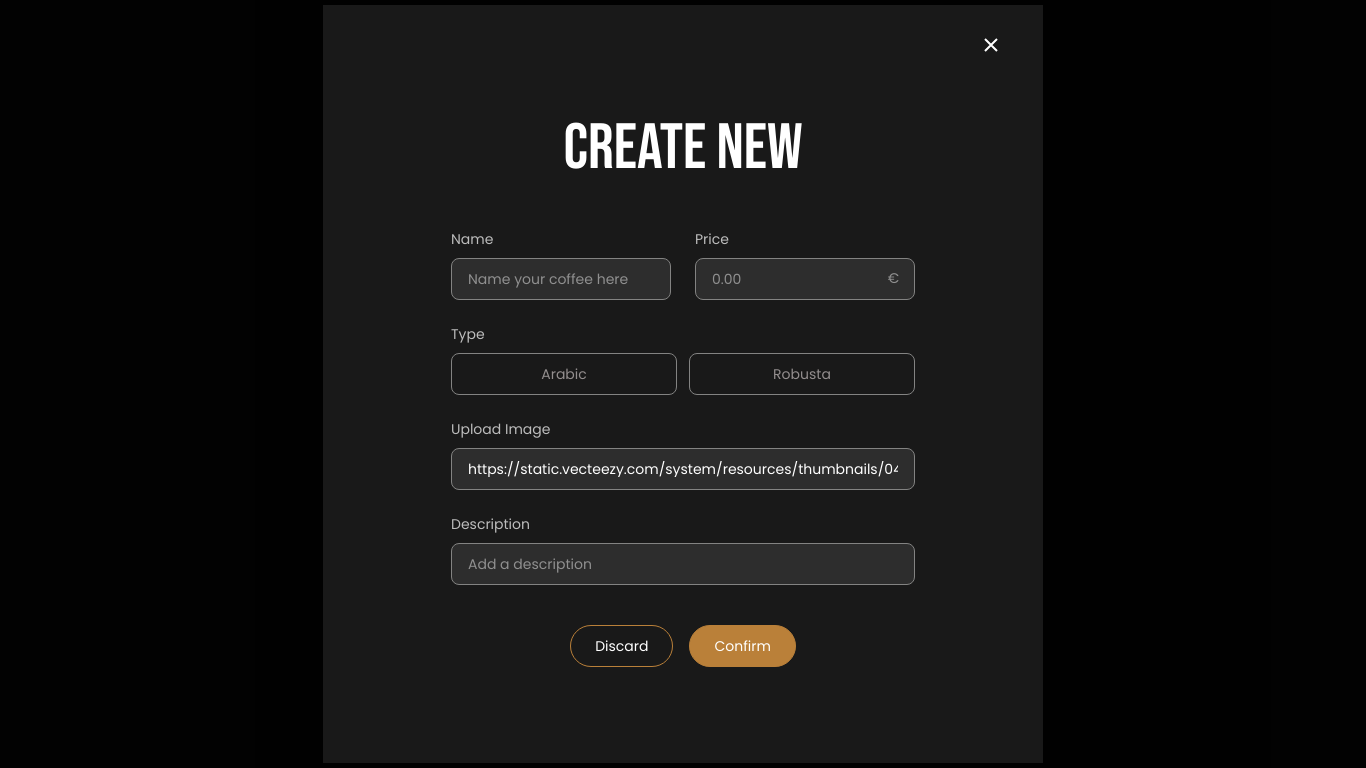
Test: Create Coffee Modal Integration › Server Errors › should show toast when server returns duplicate name error
The width and height of the screenshot is (1366, 768).
# Fill valid form
In the field labelled "Name": (561, 279) x1=451 y1=258 x2=671 y2=300, type "Existing Coffee"
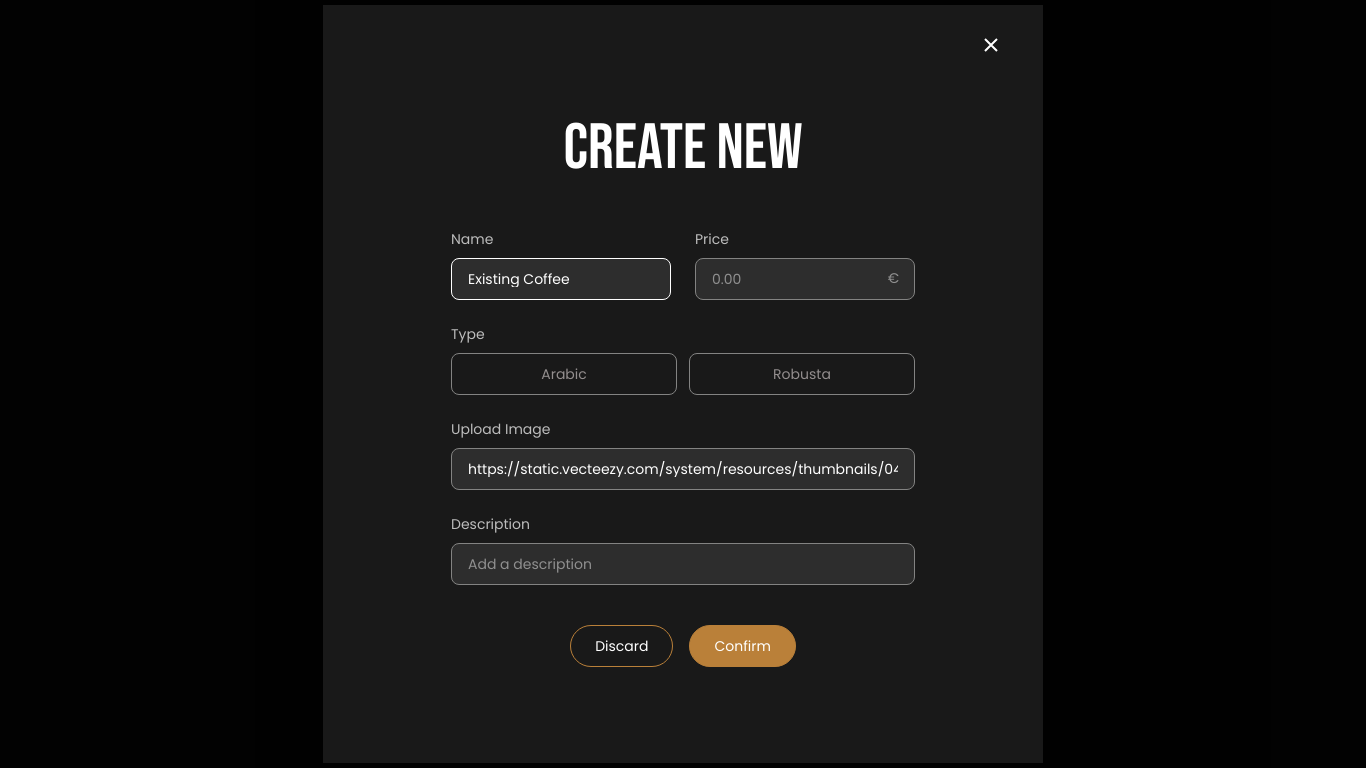
In the field labelled "Price": (805, 279) x1=695 y1=258 x2=915 y2=300, type "15.99"
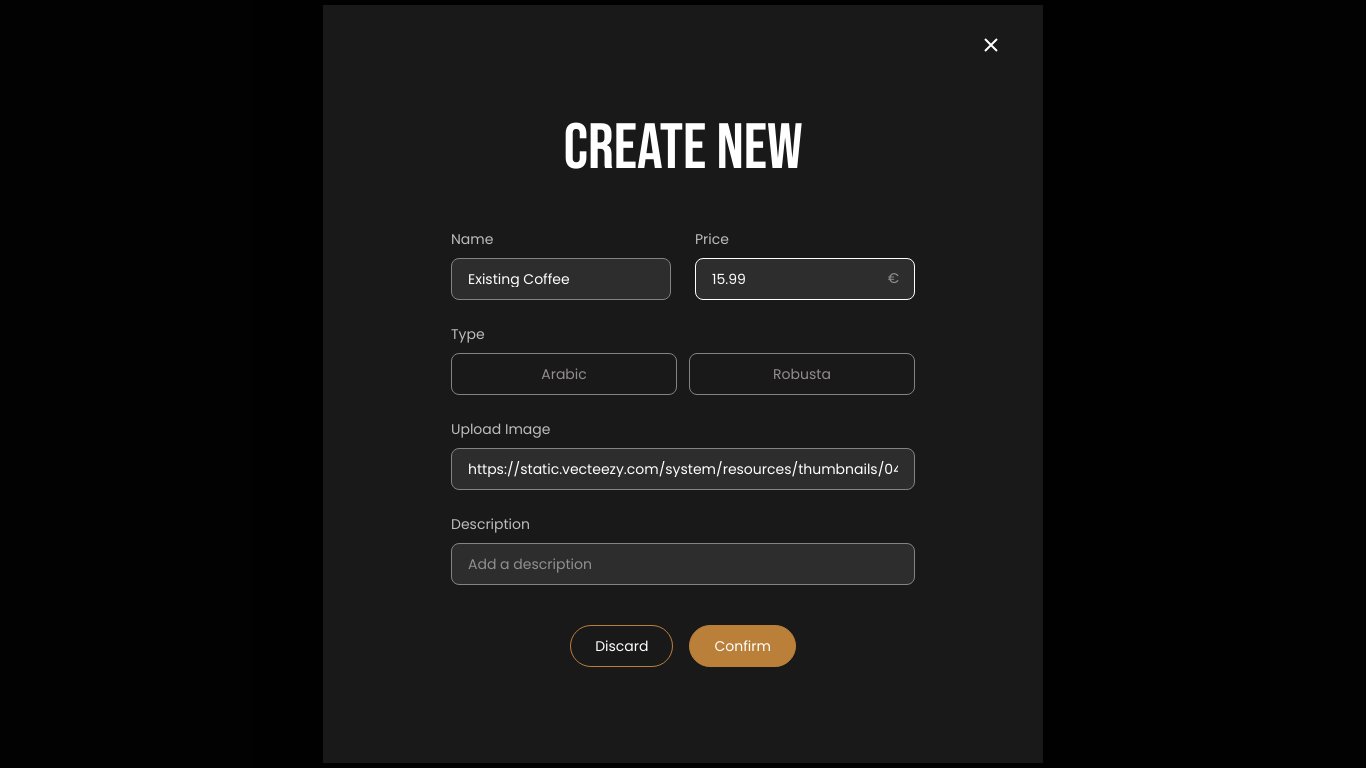
Click the button "Arabic": (564, 374) x1=451 y1=353 x2=677 y2=395
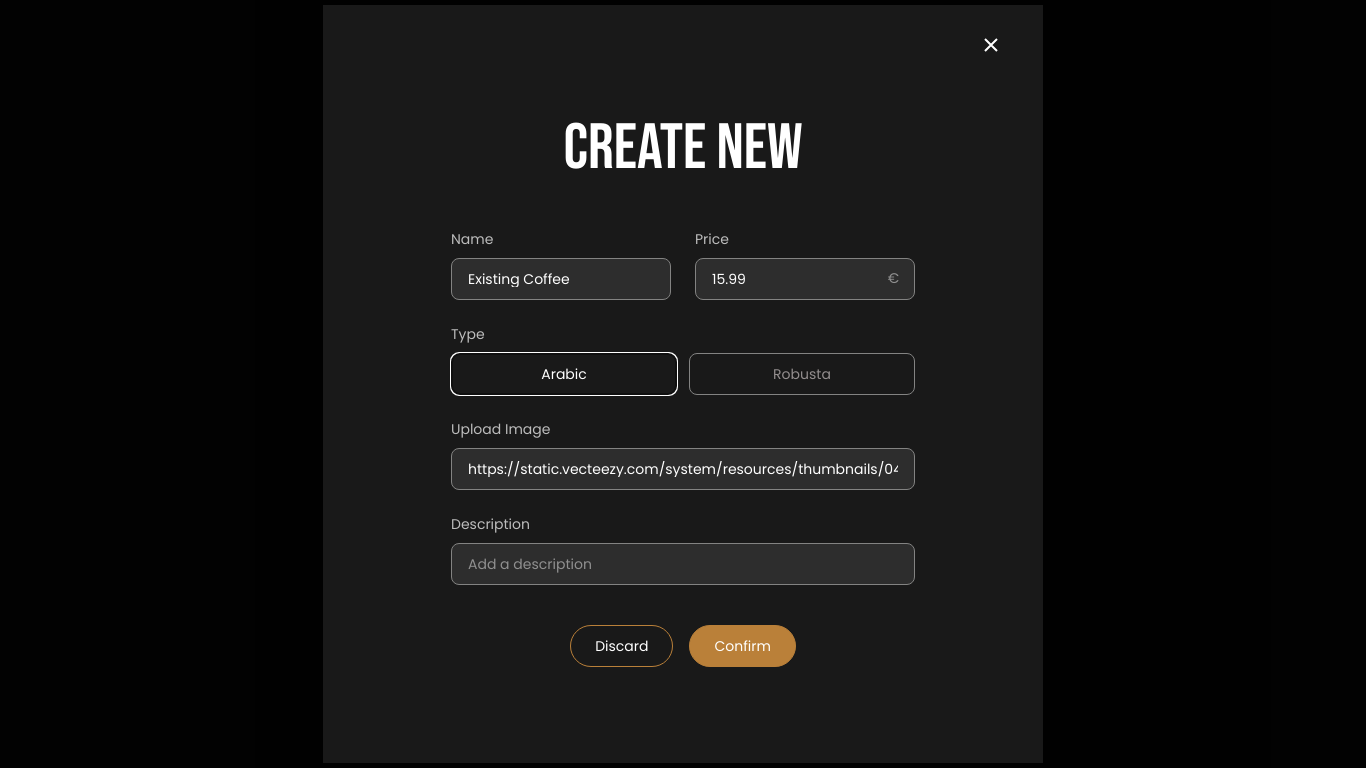
In the field labelled "Description": (683, 564) x1=451 y1=543 x2=915 y2=585, type "A test coffee"
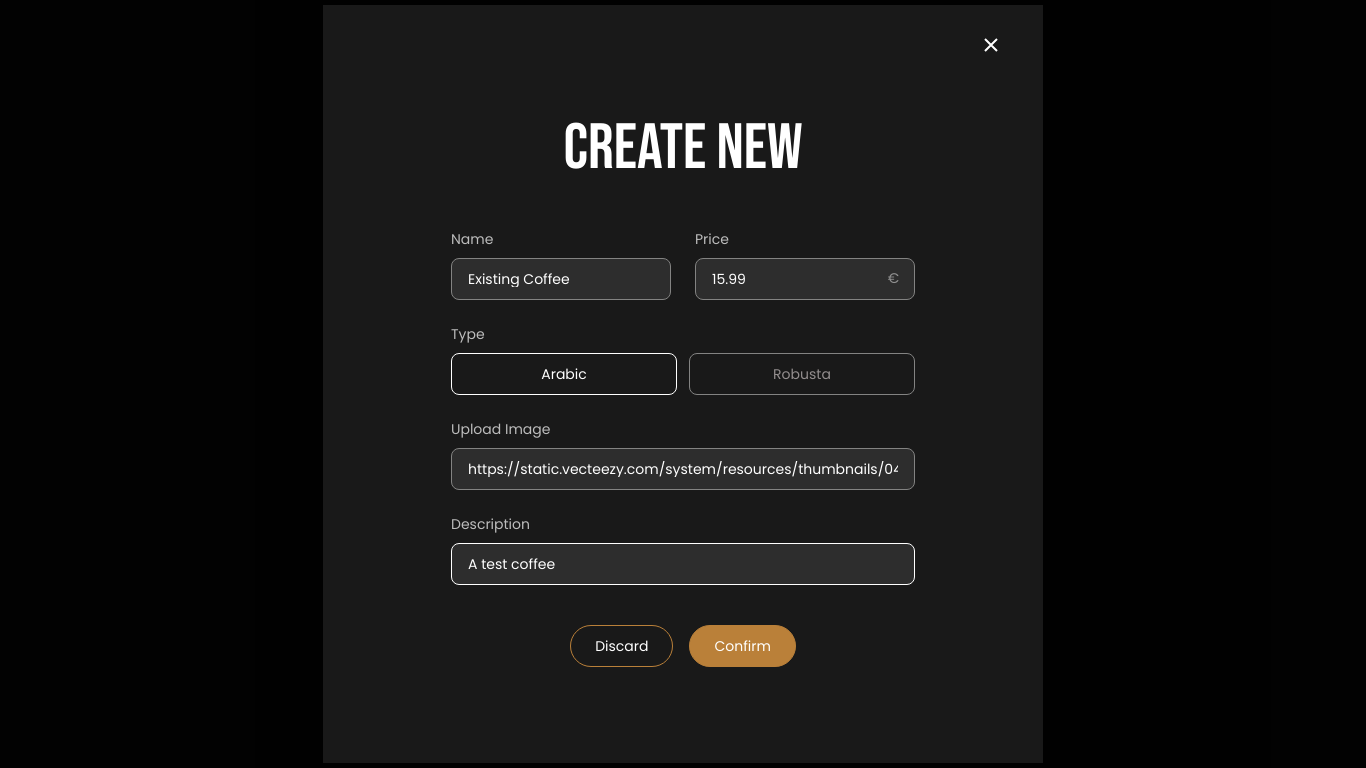
Click the button "Confirm": (743, 646) x1=689 y1=625 x2=796 y2=667
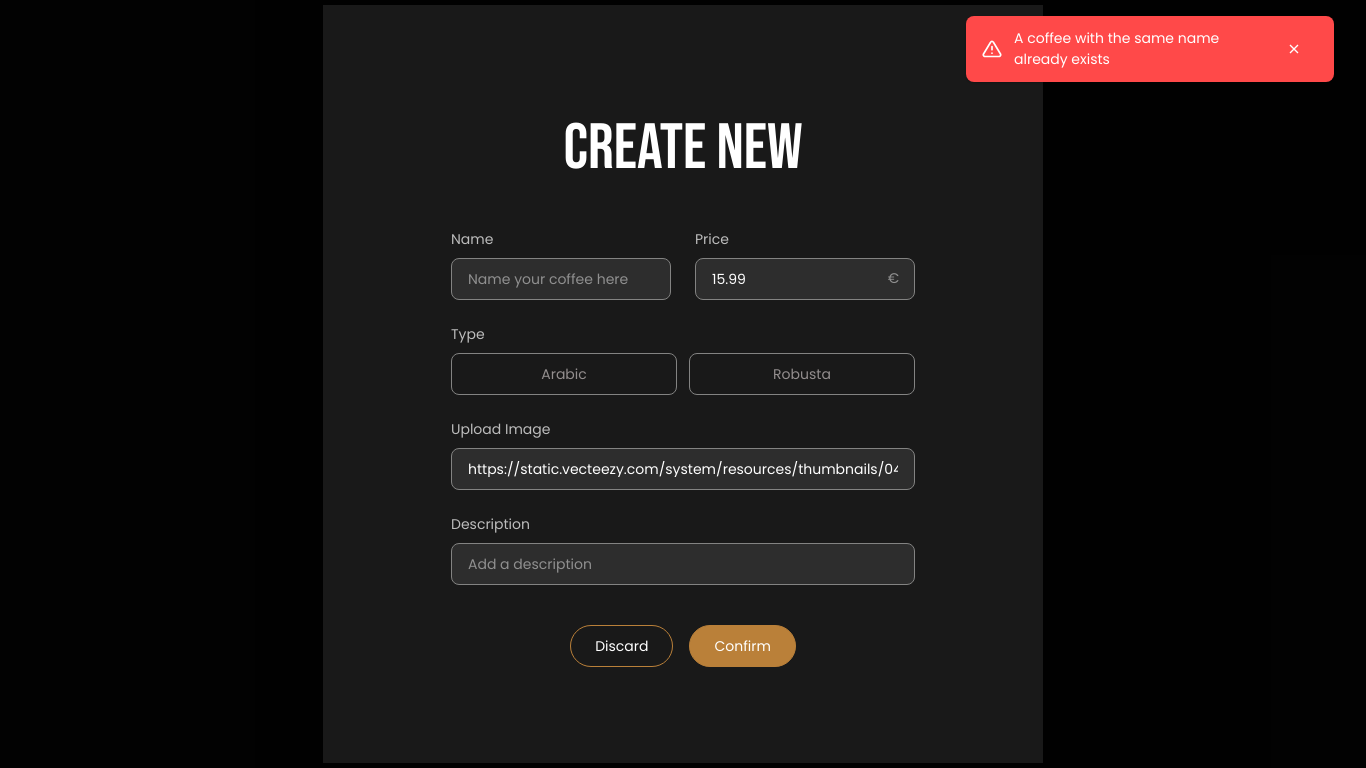
Expected: the text "A coffee with the same name already exists" is shown, x1=1014 y1=28 x2=1219 y2=69
